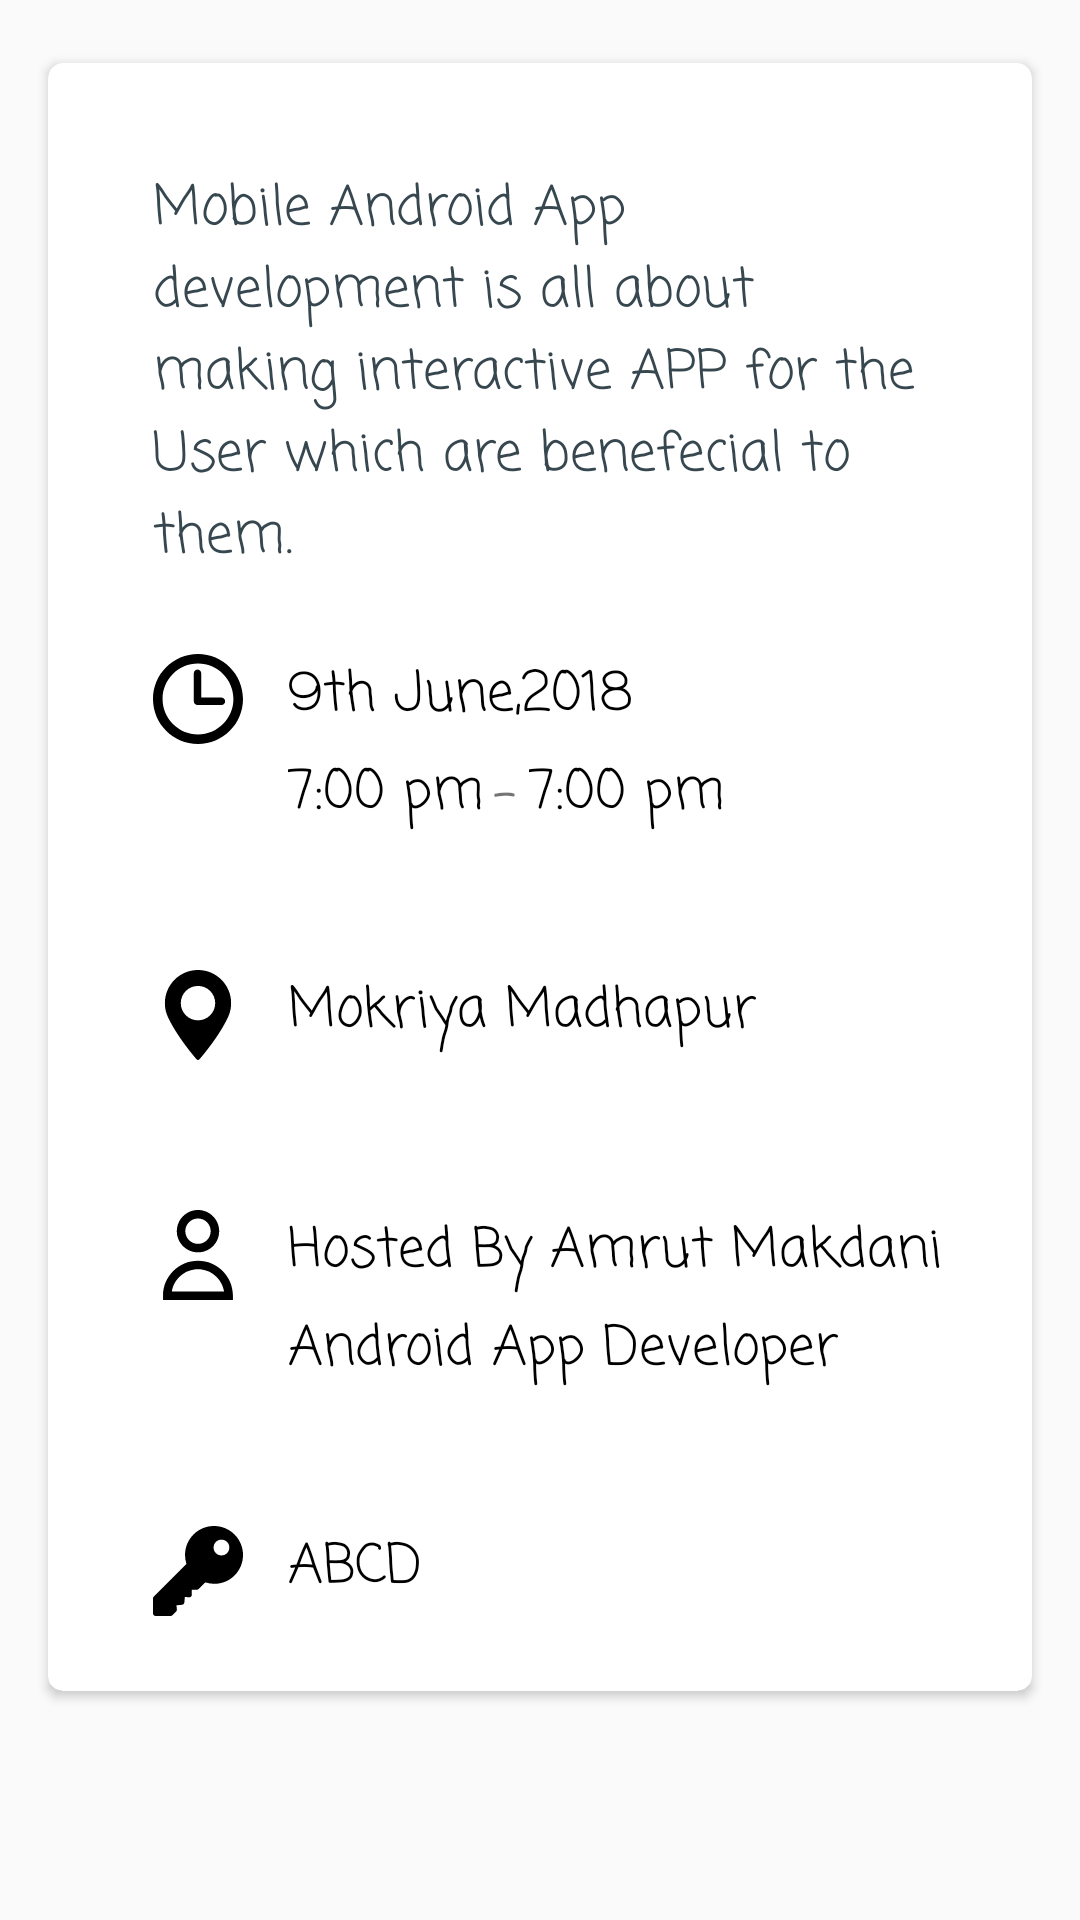

Where to tap for icons on this 1080 × 1920 app screen, as (x,y):
clock circular: (198,699)
key: (198,1571)
user: (198,1255)
